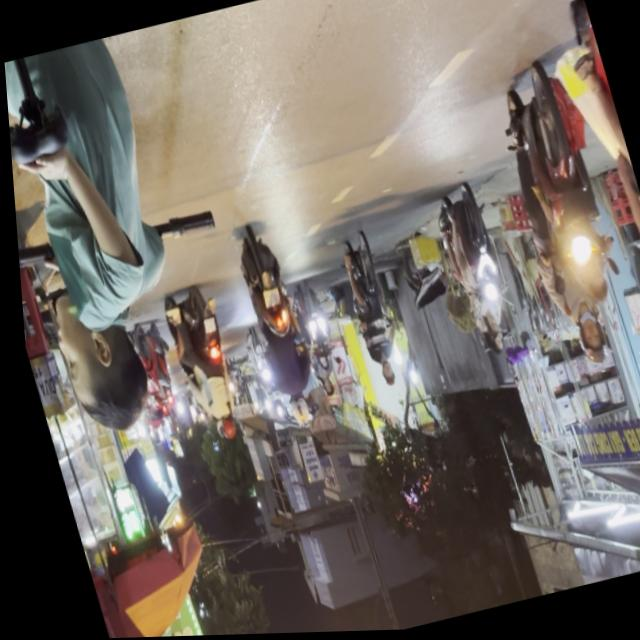helmet: (568, 316, 607, 372), (282, 395, 307, 429)
licenseplate: (479, 56, 640, 379), (528, 0, 640, 422), (221, 223, 323, 435), (422, 179, 520, 365)
nohelmet: (257, 289, 277, 309)
